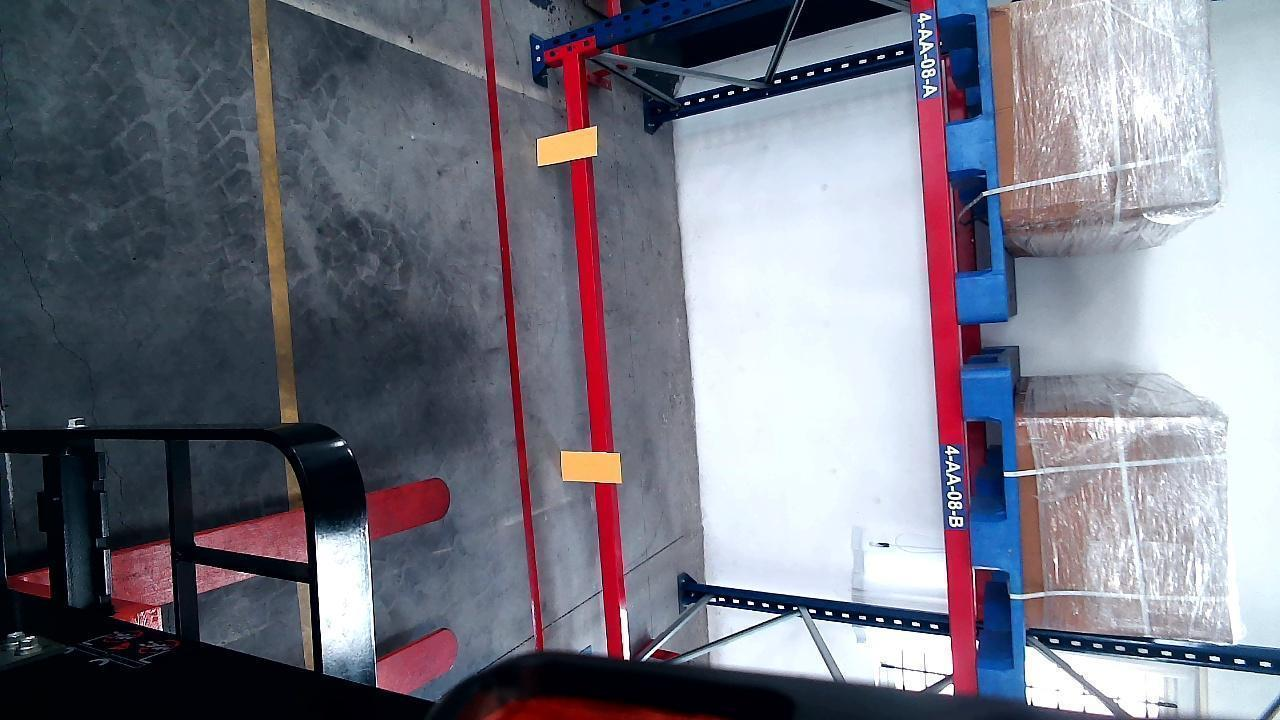red_line: (480, 0, 546, 656)
yellow_line: (254, 0, 298, 428)
